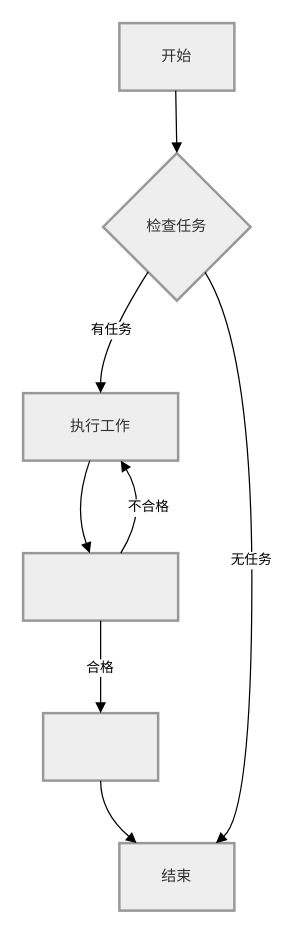
Some shapes in this 294 by 933 pixel diagram are drawn without their labels. The shapes that lost their labels are listed below. From the top down, each one's box as (x1, y1, x2, y2) in pixels, then its label:
(21, 551, 179, 621): 审核结果
(41, 711, 159, 781): 归档
